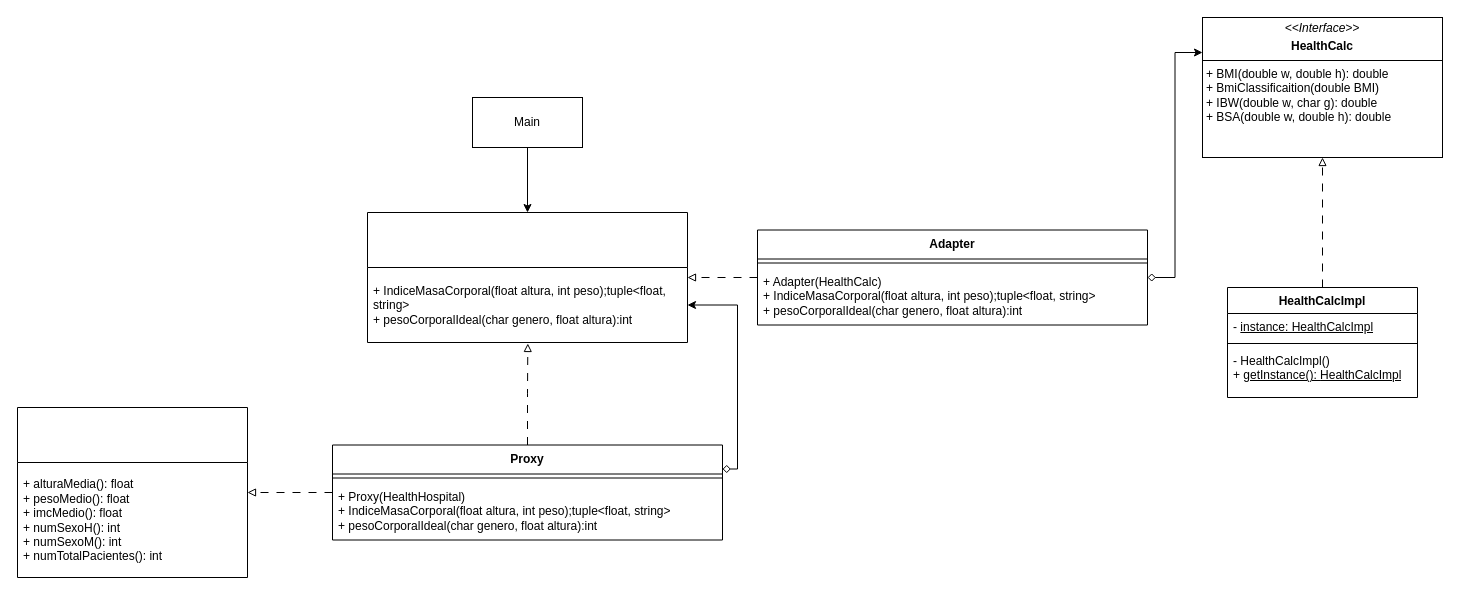
This 1460x595 diagram has some shape labels left out. Each missing label, with the box of its shape:
<<interface>> HealthHospital: (366, 212, 688, 342)
<<interface>> HealthStats: (16, 406, 248, 578)
